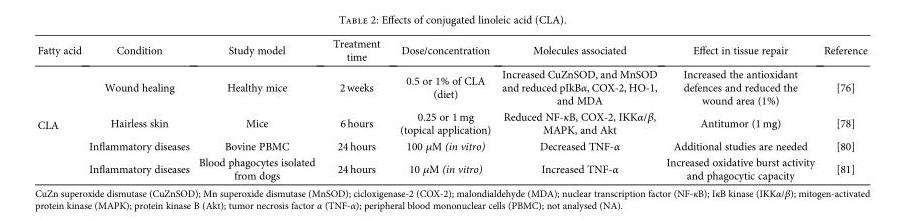table: (37, 36, 867, 181)
table column: (496, 36, 662, 181), (662, 36, 819, 181), (194, 36, 324, 181), (85, 36, 194, 181), (390, 36, 496, 181), (324, 36, 390, 181), (37, 36, 85, 181), (819, 36, 867, 181)
table column header: (37, 36, 867, 65)
table row: (37, 65, 867, 108), (37, 36, 867, 65), (37, 108, 867, 137), (37, 153, 867, 181), (37, 137, 867, 153)
table spanning cell: (37, 65, 85, 181)
